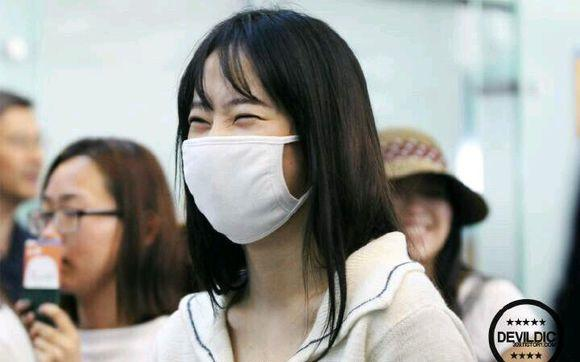NONE: (36, 184, 117, 294), (385, 178, 459, 258), (1, 128, 48, 200)
OK: (182, 96, 318, 232)
